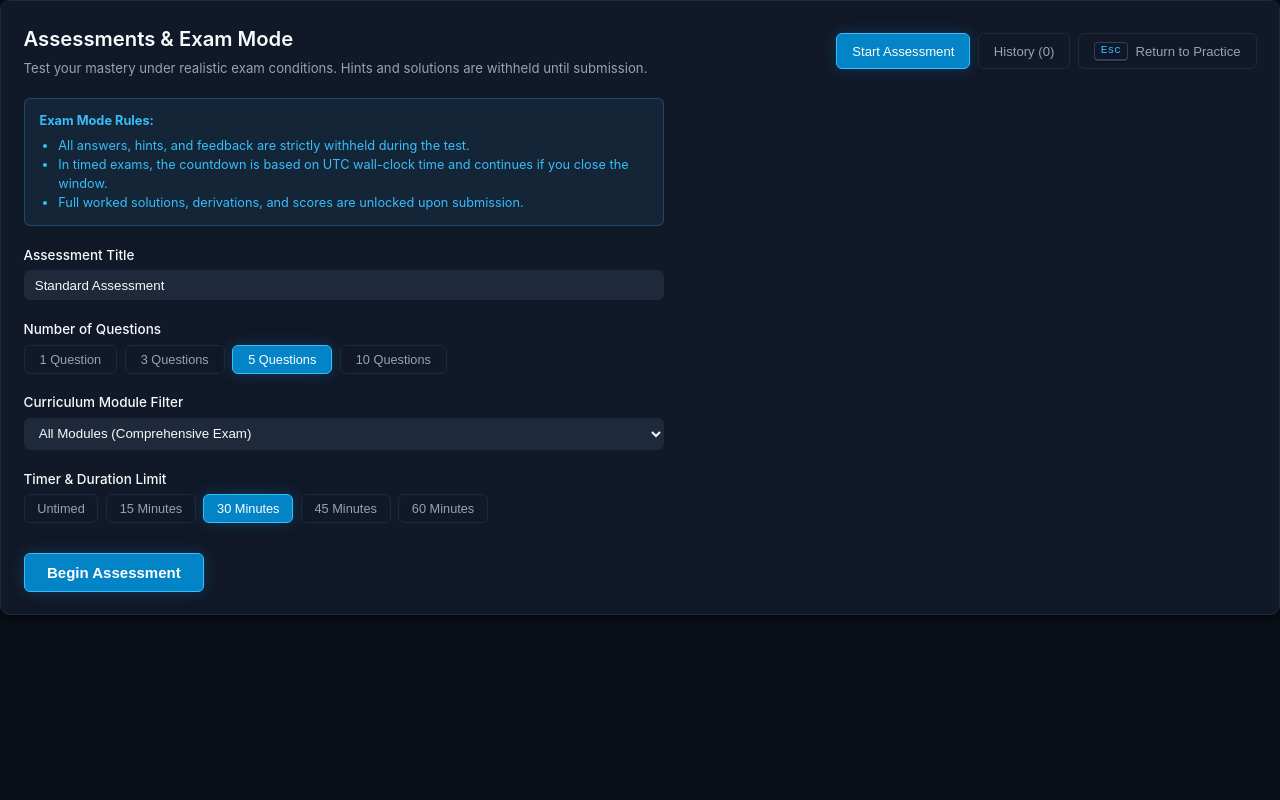
Test case: Exams Feature UI › strictly withholds hints, solutions, and feedback during active assessment
The image size is (1280, 800).
// Begin assessment
Click the button "Begin Assessment": (114, 572) [24,553,204,592]
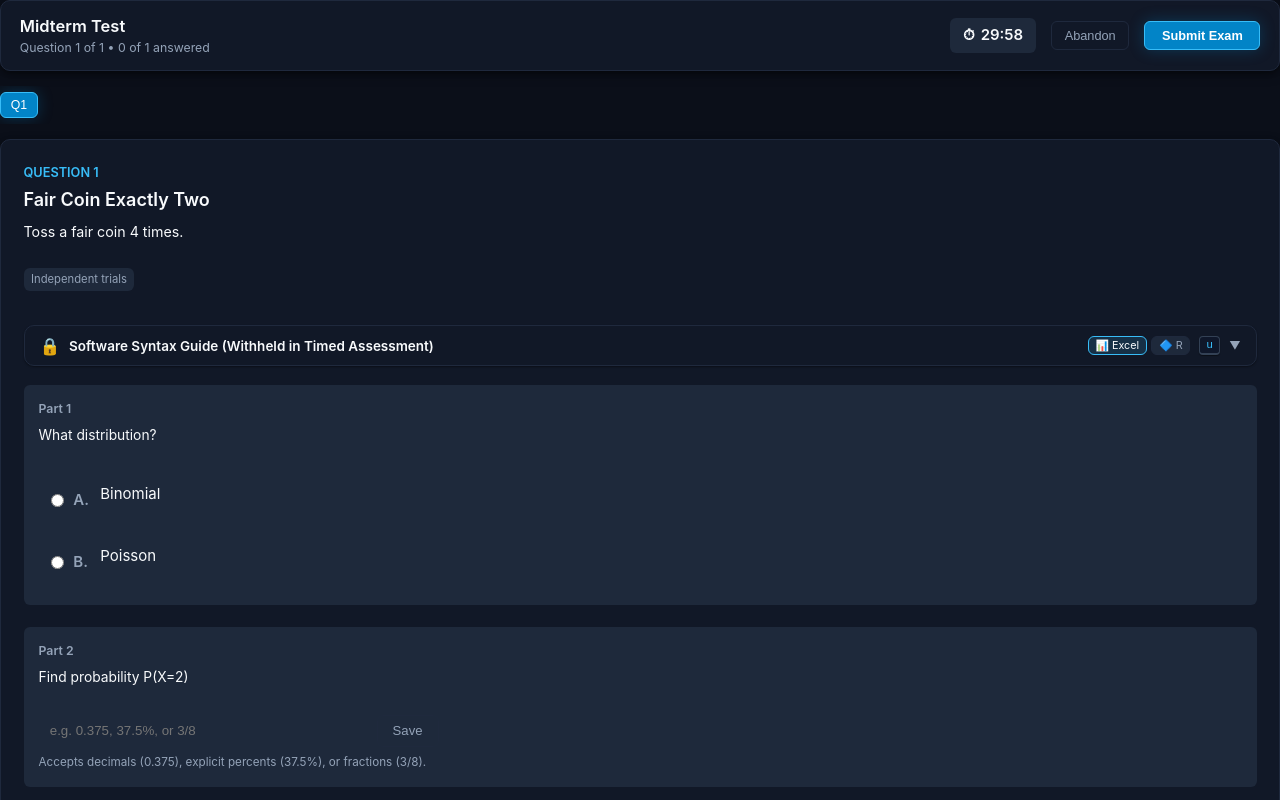
Expected: the text "Midterm Test" is shown, [20,16,125,36]
Expected: the text "Hint" is gone
Expected: the text "solution" is gone
